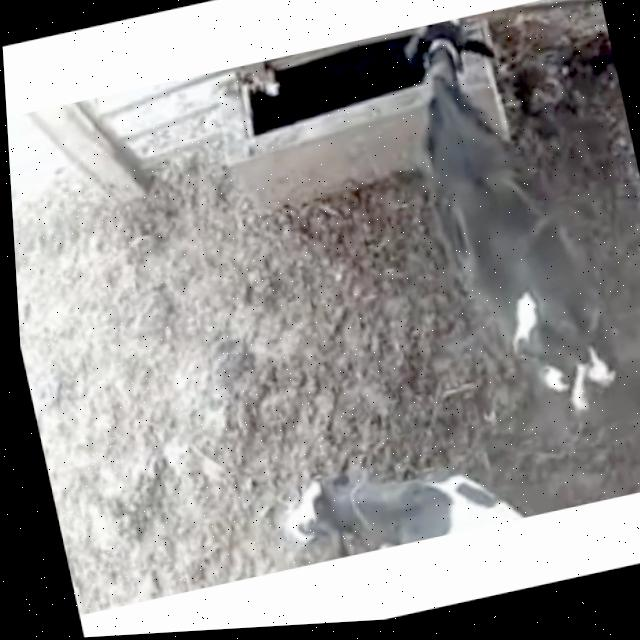drink: (359, 8, 521, 140)
